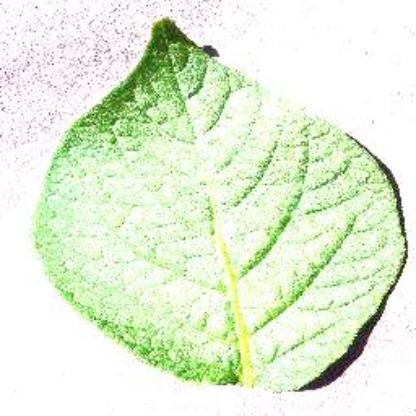Healthy-plant: (37, 27, 409, 403)
